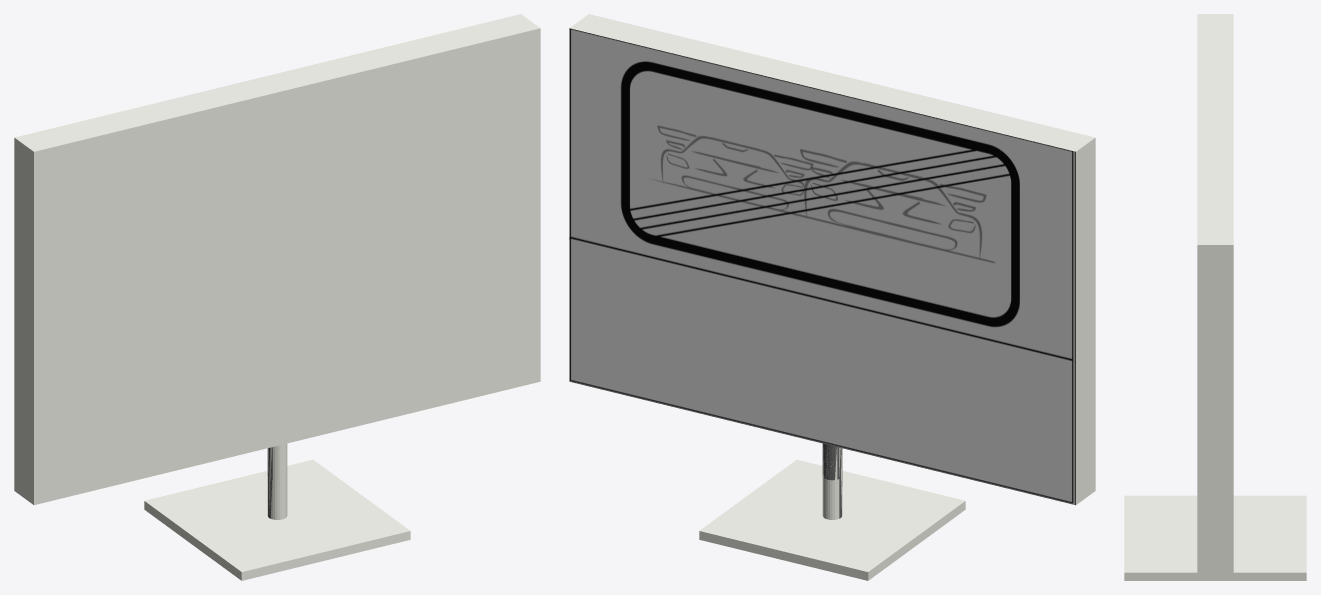
File: overtaking_permitted.dae
3 views of the same model, side by side, from view 1: azimuth 30°, elevation 25°; view 2: azimuth 150°, elevation 25°; view 3: azimuth 270°, elevation 25° (orthographic). The views are drawn at different scales.
Parts seen in each view (by area): view 1: Schild; view 2: Schild; view 3: Schild.
Part boxes in pixels (bbox=[...]): Schild: bbox=[14, 14, 540, 580]; Schild: bbox=[569, 14, 1095, 580]; Schild: bbox=[1124, 14, 1306, 580].
Size of the model in its own units: 0.3 by 0.1 by 0.25.
Materials: 2 (1 with a texture image).
